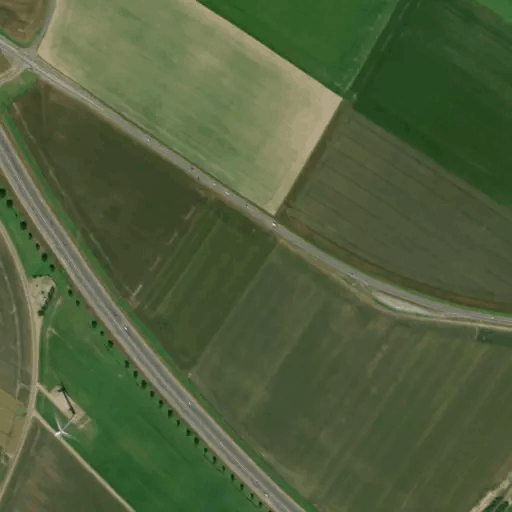wt: (45, 370, 83, 444)
